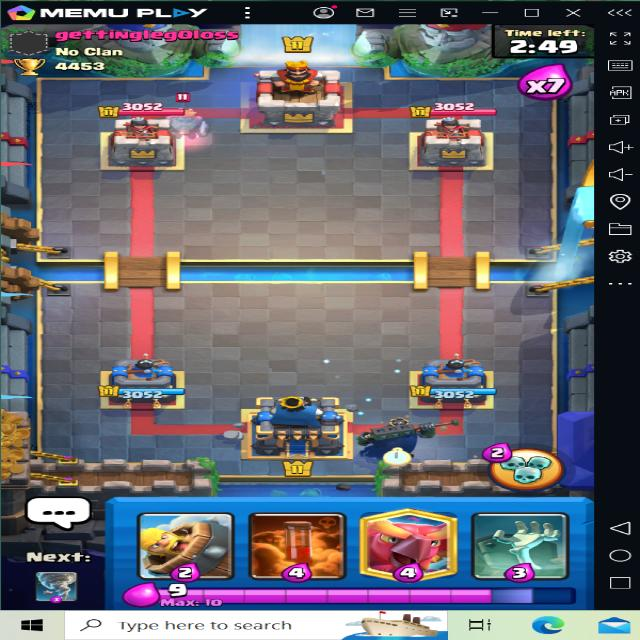Royalghost: (157, 96, 216, 146)
